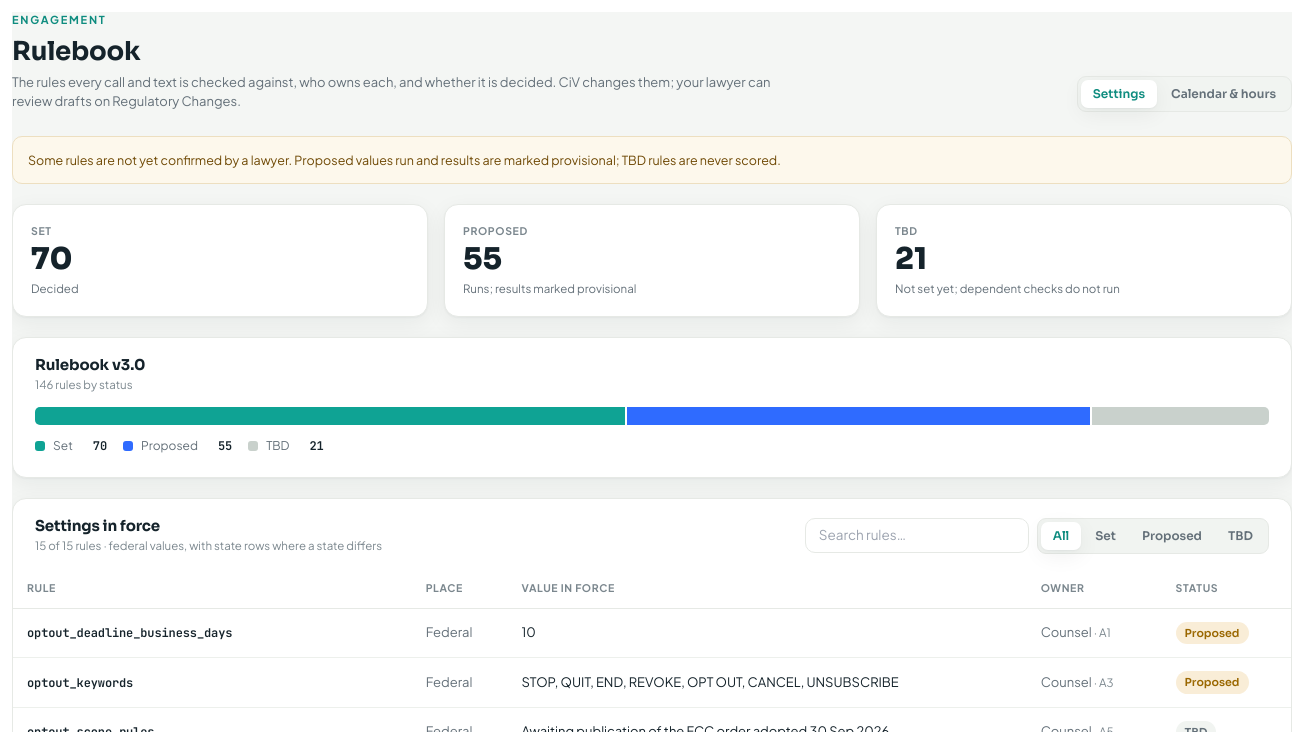
Scenario: interactions › shows the Rulebook note and the Calendar & hours tab
Expected: the text "not yet confirmed by a lawyer" is shown, [28,152,781,168]
Click the button "Calendar & hours" at (1224, 94), box [1159,80,1288,108]
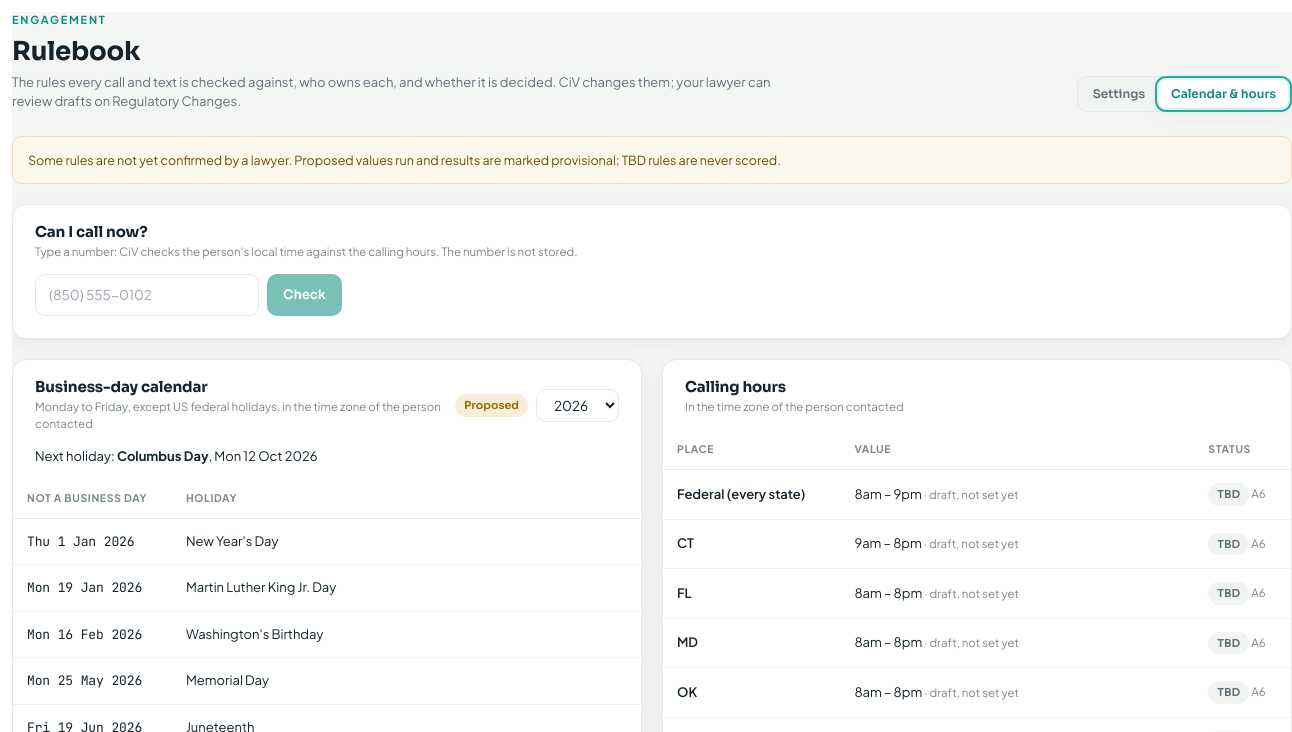
Expected: the 1st text "8am – 8pm" is shown, [854,585,922,601]
